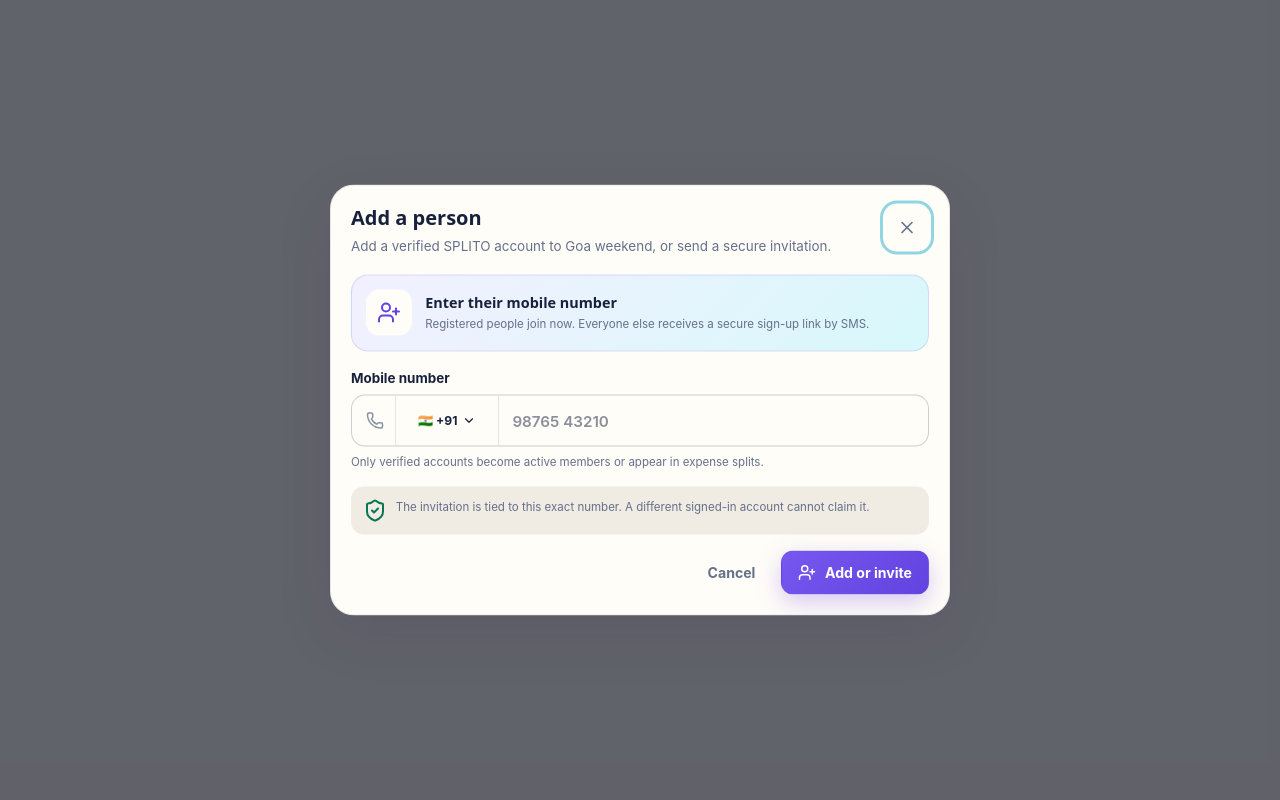
Test: AddGroupMemberDialog › keeps an unregistered invite pending until the recipient verifies and accepts
Type "9876543210" into the field labelled "Mobile number". click: coordinates (713, 421)
box: left=499, top=396, right=928, bottom=446
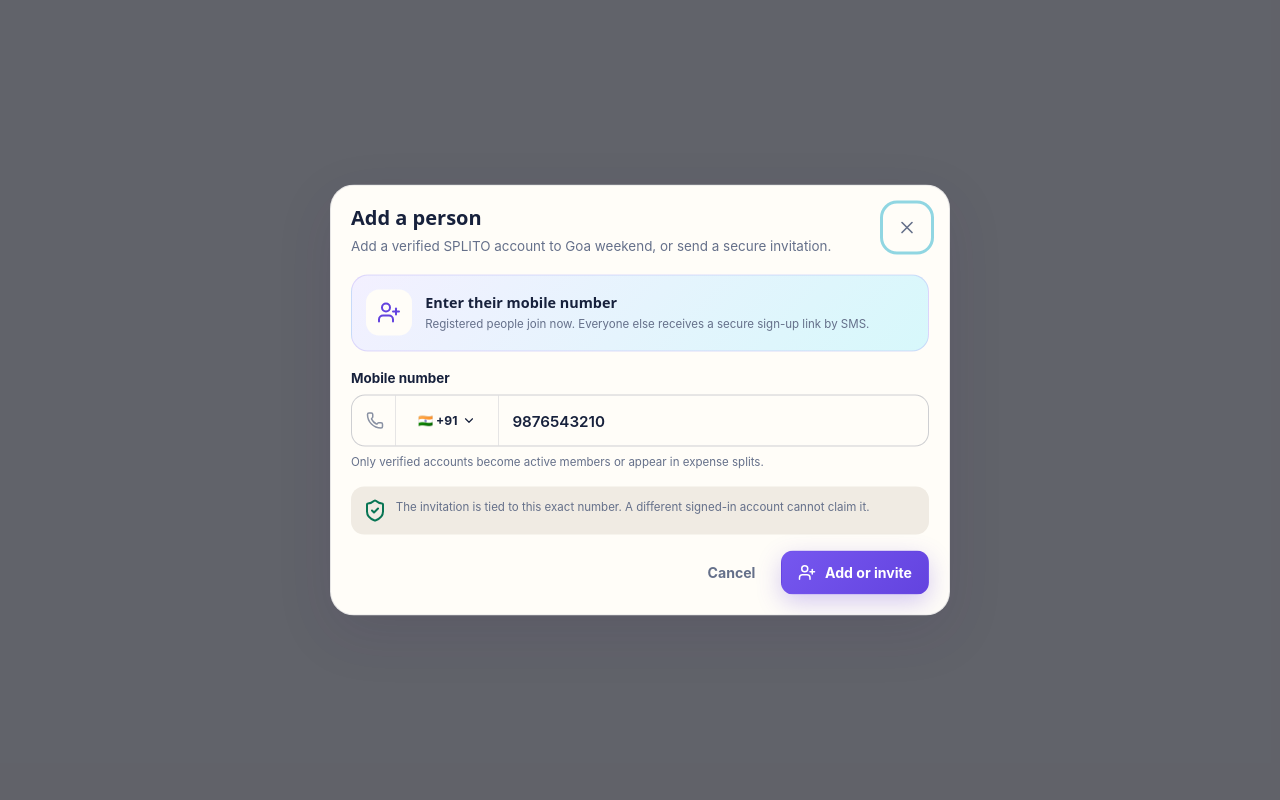
Click the button "Add or invite". click: coordinates (855, 572)
box: left=781, top=550, right=929, bottom=594
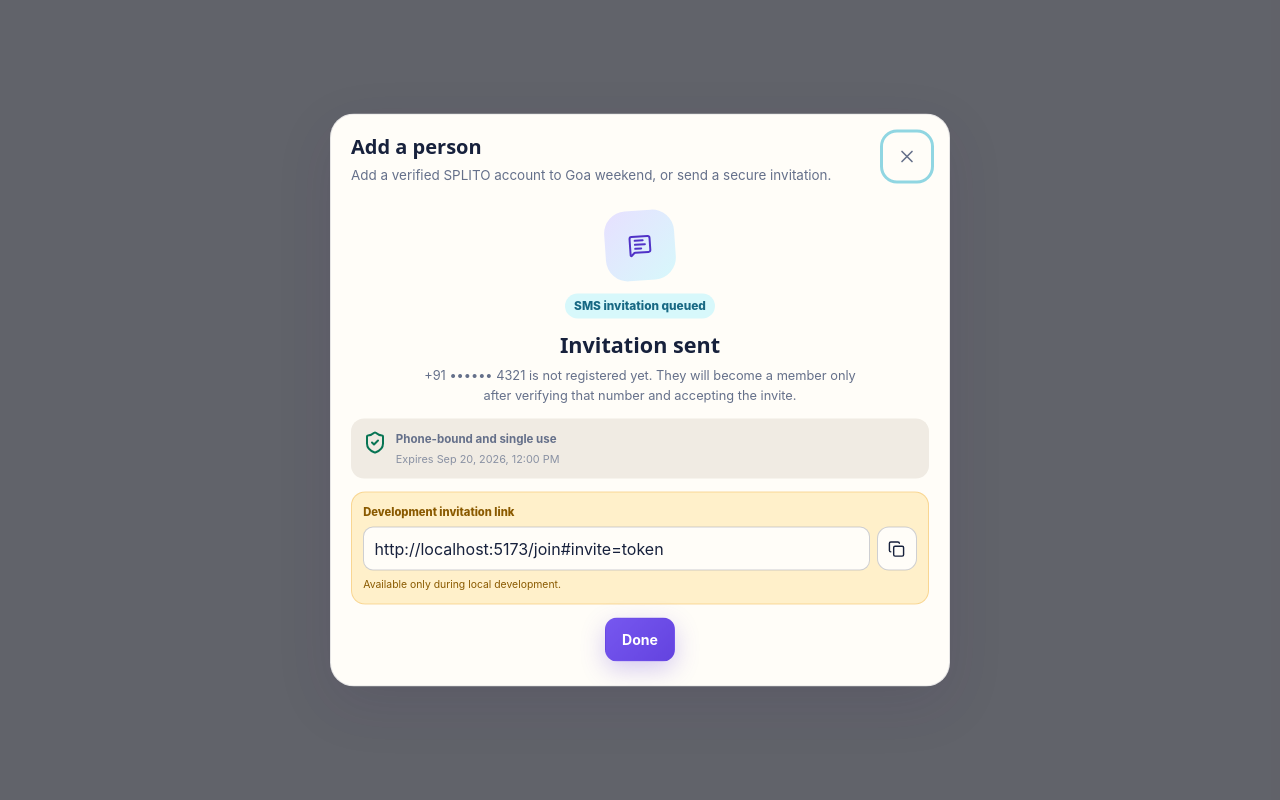
Result: the heading "Invitation sent" is shown at left=560, top=331, right=720, bottom=357
Result: the text "become a member only after verifying" is shown at left=484, top=368, right=856, bottom=403
Result: the text "active member" is gone
